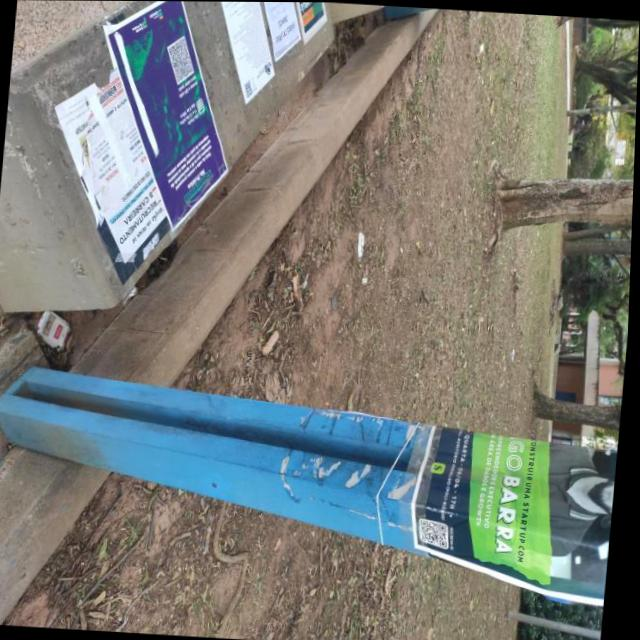qrcode: (166, 38, 196, 84), (423, 521, 452, 547), (244, 80, 254, 98)
